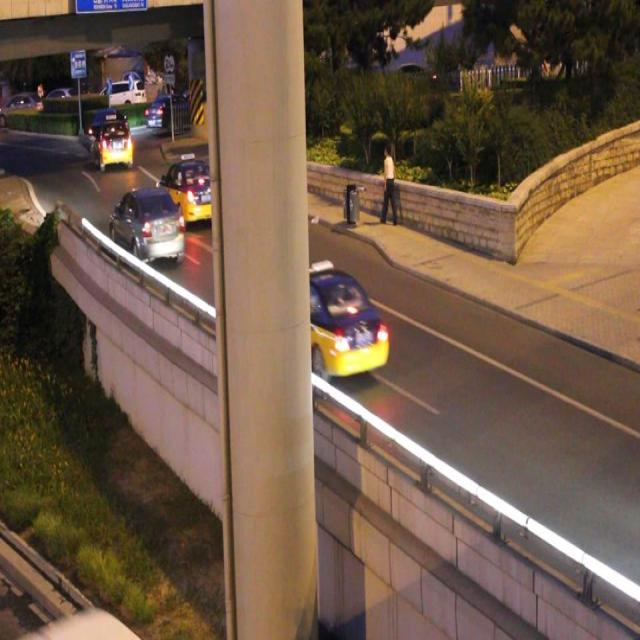car: (274, 269, 388, 372), (112, 190, 183, 263), (158, 164, 221, 218), (97, 122, 132, 166)
